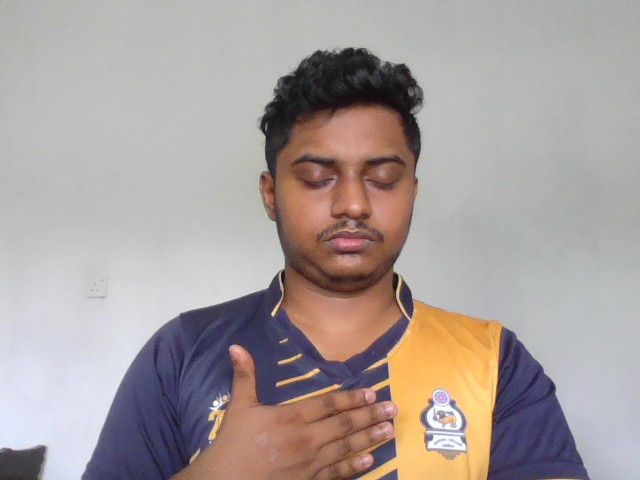Please: (214, 342, 401, 480)
